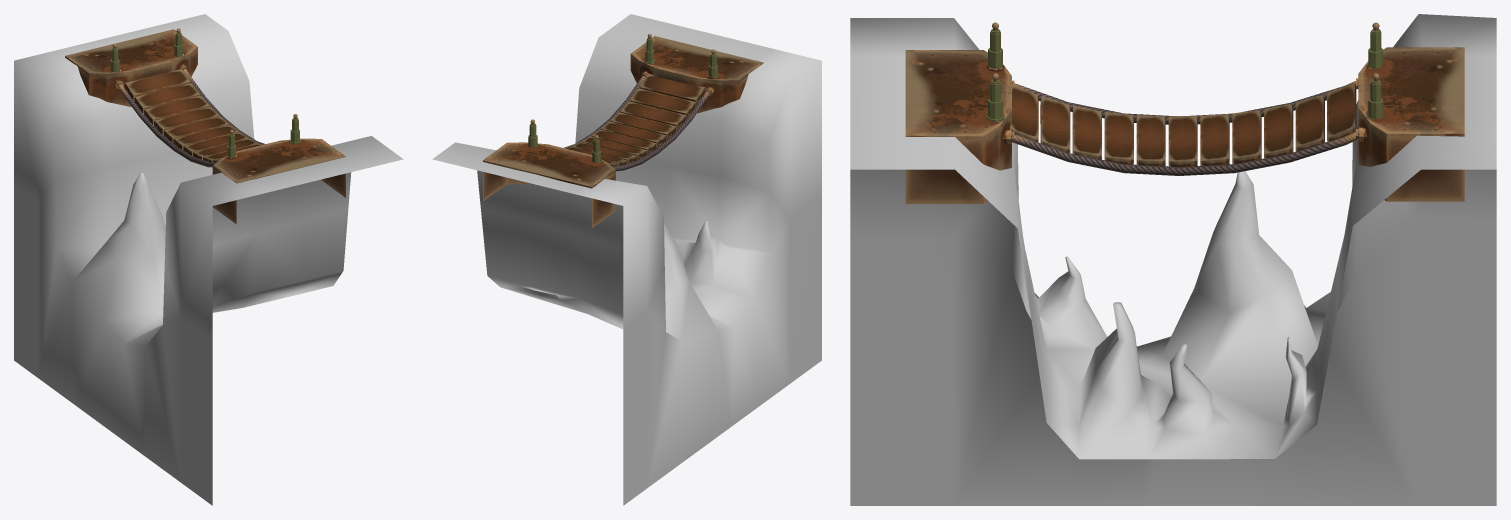
File: f_floor_03.fbx
3 views of the same model, side by side, from view 1: azimuth 30°, elevation 25°; view 2: azimuth 150°, elevation 25°; view 3: azimuth 270°, elevation 25° (orthographic). The views are drawn at different scales.
Parts seen in each view (by area): view 1: f_floor_003_1; view 2: f_floor_003_1; view 3: f_floor_003_1.
Part boxes in pixels (x1,y1,x2,y2): f_floor_003_1: [14, 14, 403, 505]; f_floor_003_1: [432, 14, 821, 505]; f_floor_003_1: [850, 14, 1496, 505].
Size of the model in its own units: 10.15 by 16.4 by 18.
